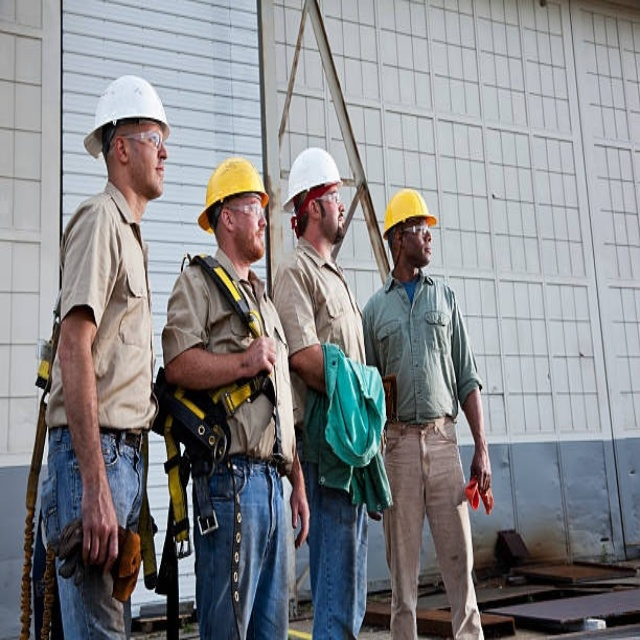Gafas: (115, 124, 168, 149), (223, 199, 266, 218), (395, 223, 431, 237), (312, 187, 340, 204)
Sin_guantes: (79, 472, 120, 576), (242, 329, 281, 378), (465, 442, 498, 491), (287, 488, 312, 552)
Sin_mascara: (148, 158, 166, 188), (249, 224, 267, 251), (329, 209, 345, 237), (417, 242, 434, 260)
